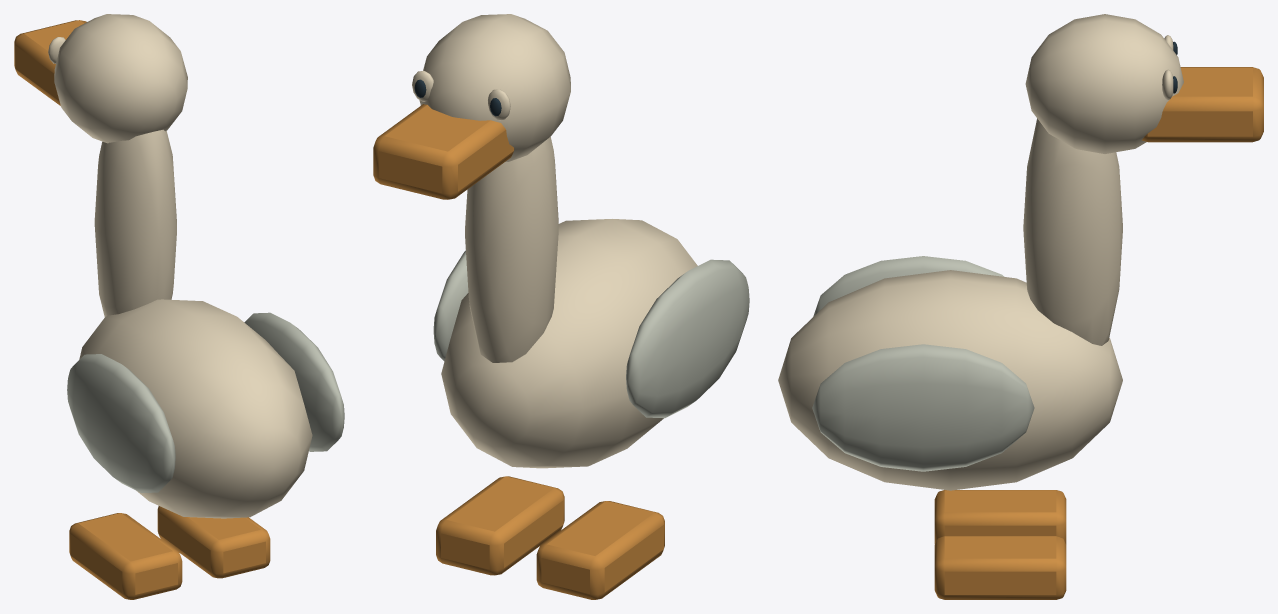
File: goose.glb
3 views of the same model, side by side, from view 1: azimuth 30°, elevation 25°; view 2: azimuth 150°, elevation 25°; view 3: azimuth 270°, elevation 25° (orthographic). The views are drawn at different scales.
Visible parts, largest first — view 1: goose.001; view 2: goose.001; view 3: goose.001.
Boxes of the visible parts, x1,y1,x2,y2 form: goose.001: [14, 14, 344, 599]; goose.001: [373, 14, 749, 599]; goose.001: [778, 14, 1263, 599].
Bounding box in the file's own units: 0.55 × 1.32 × 1.07.
